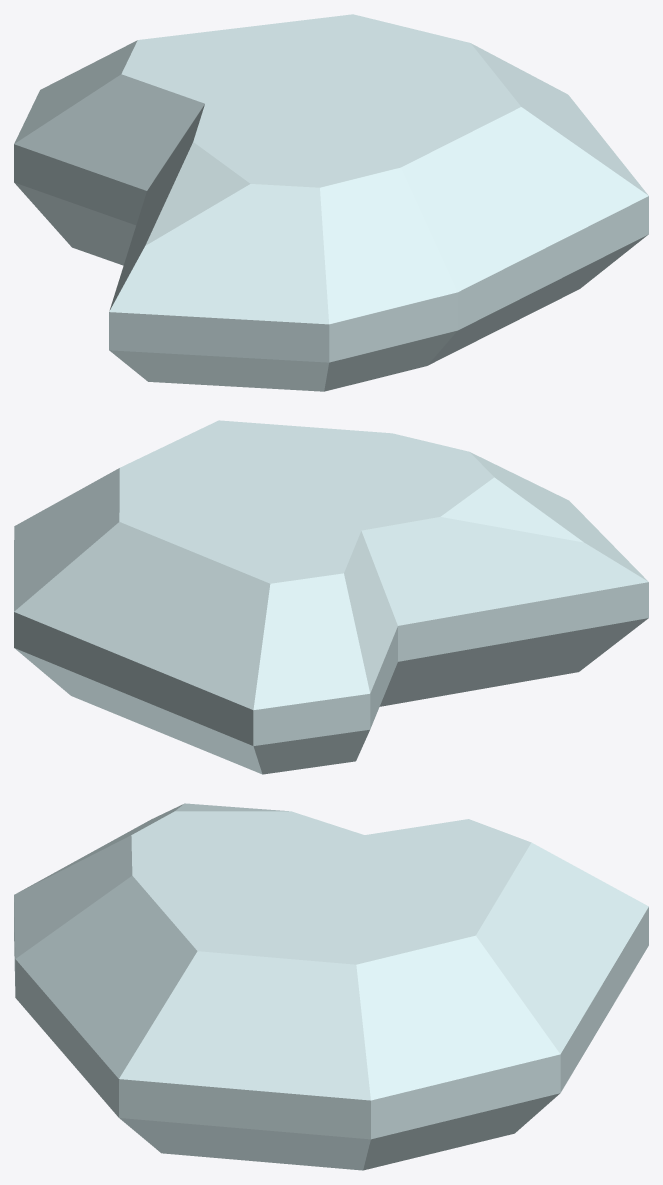
Rendered from stone_largeC.glb.
3 views of the same model, one above another, from view 1: azimuth 30°, elevation 25°; view 2: azimuth 150°, elevation 25°; view 3: azimuth 270°, elevation 25° (orthographic). The views are drawn at different scales.
Parts seen in each view (by area): view 1: stone_largeC; view 2: stone_largeC; view 3: stone_largeC.
Boxes of the visible parts, <box> form: stone_largeC: <box>14,14,648,391</box>; stone_largeC: <box>14,420,648,774</box>; stone_largeC: <box>14,803,648,1170</box>.
Size of the model in its own units: 1.06 by 0.3211 by 1.02.
Materials: 1 (1 with a texture image).
